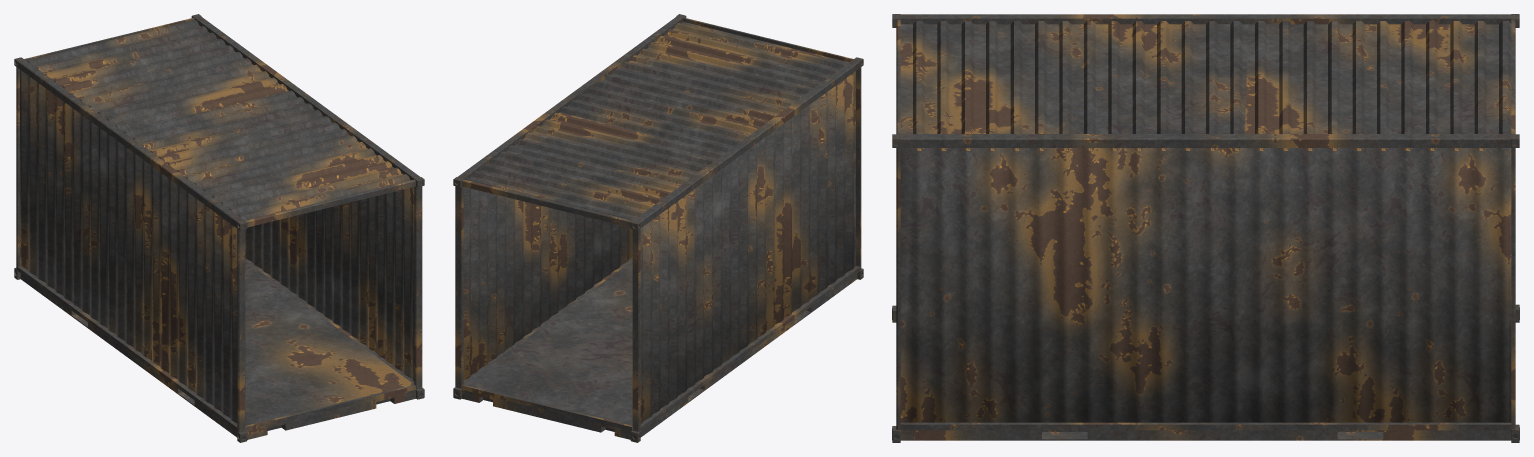
File: SM_Rusted_ShippingContainer.fbx
3 views of the same model, side by side, from view 1: azimuth 30°, elevation 25°; view 2: azimuth 150°, elevation 25°; view 3: azimuth 270°, elevation 25° (orthographic). The views are drawn at different scales.
Visible parts, largest first — view 1: SM_ShippingContainer; view 2: SM_ShippingContainer; view 3: SM_ShippingContainer.
Part boxes in pixels (x1=…): SM_ShippingContainer: x1=14, y1=14, x2=424, y2=442; SM_ShippingContainer: x1=453, y1=14, x2=863, y2=442; SM_ShippingContainer: x1=892, y1=14, x2=1519, y2=442.
Bounding box in the file's own units: 291 × 330 × 617.
